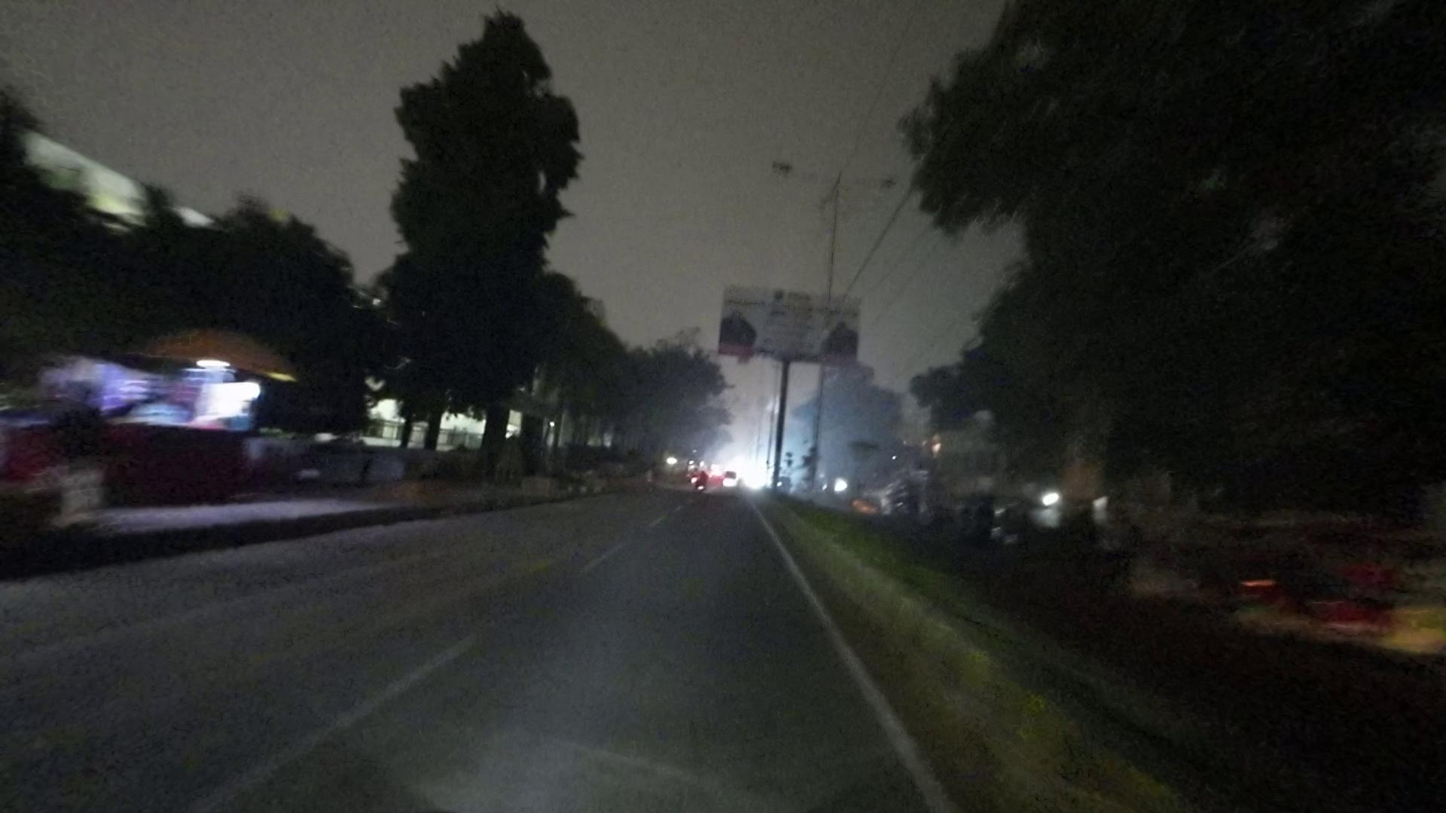streetlight: (770, 158, 834, 184)
